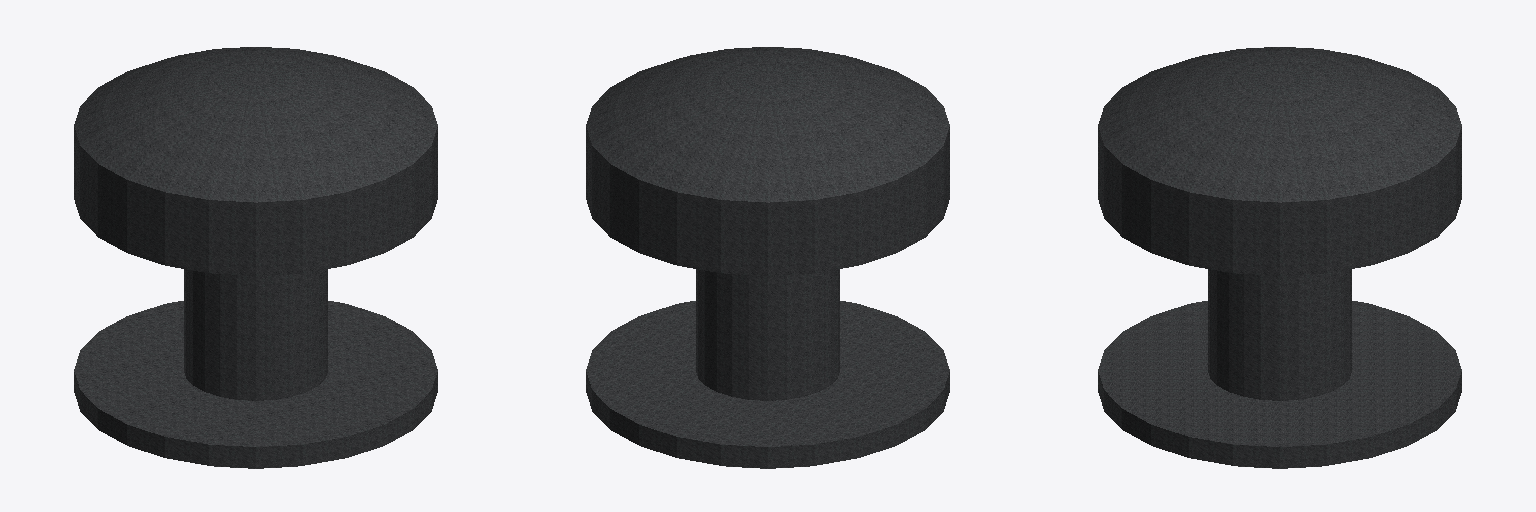
The picture shows the model from 3 angles: view 1: azimuth 30°, elevation 25°; view 2: azimuth 150°, elevation 25°; view 3: azimuth 270°, elevation 25°; orthographic projection.
Visible parts, largest first — view 1: Mesh1 Model; view 2: Mesh1 Model; view 3: Mesh1 Model.
Part boxes in pixels (x1,y1,x2,y2): Mesh1 Model: (74,47,437,468); Mesh1 Model: (586,47,949,468); Mesh1 Model: (1098,47,1461,468).
Bounding box in the file's own units: 3.1 × 3.33 × 3.1.
2 materials, 1 textured.